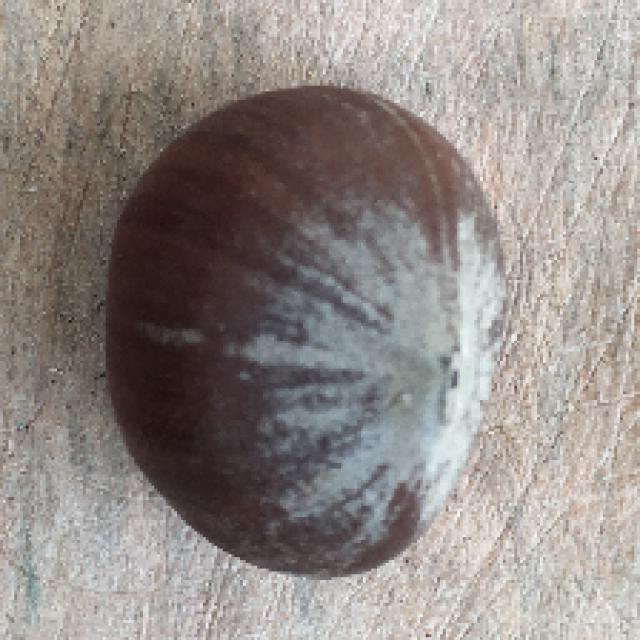damagedHazelnut: (103, 82, 517, 578)
